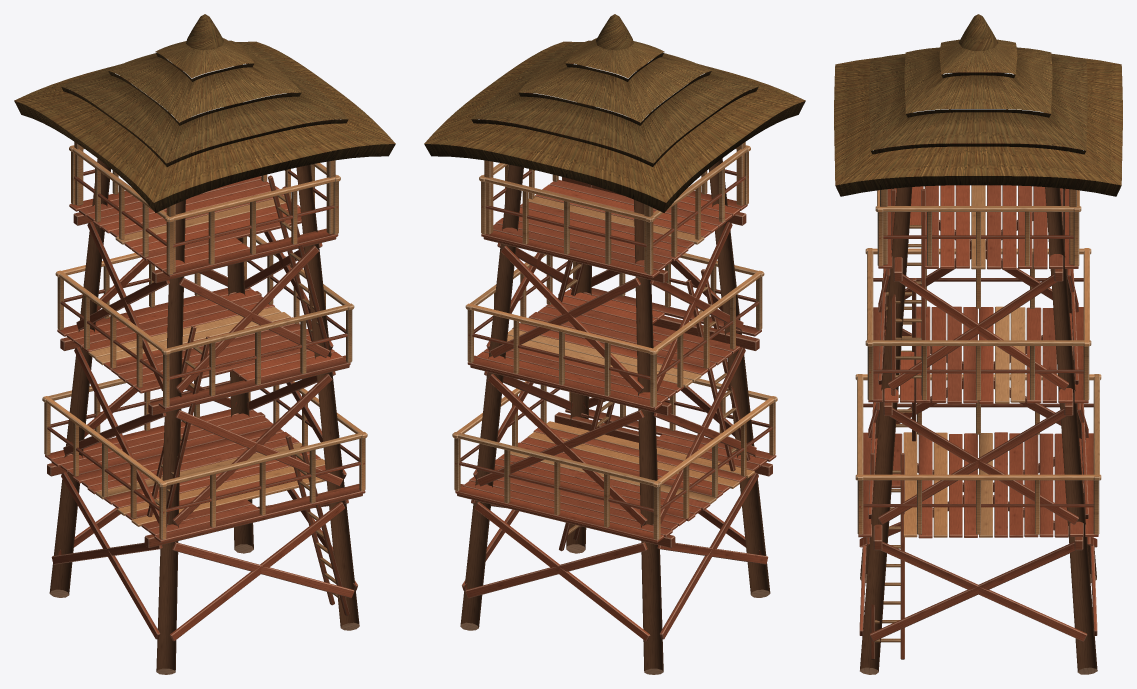
Rendered from watchtower.glb.
3 renders of one model, left to right at view 1: azimuth 30°, elevation 25°; view 2: azimuth 150°, elevation 25°; view 3: azimuth 270°, elevation 25°, orthographic. The views are drawn at different scales.
Visible parts, largest first — view 1: tower, roof; view 2: tower, roof; view 3: tower, roof.
Boxes of the visible parts, x1,y1,x2,y2 form: tower: (42, 63, 367, 674); roof: (14, 14, 395, 212); tower: (452, 63, 777, 674); roof: (424, 14, 805, 212); tower: (855, 72, 1101, 674); roof: (834, 14, 1122, 196).
Size of the model in its own units: 4.63 by 10.83 by 4.63.
2 materials, 2 textured.
